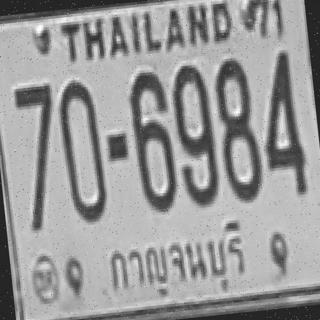N00: (55, 78, 107, 222)
N04: (254, 48, 306, 196)
N06: (127, 68, 177, 211)
N07: (12, 82, 62, 205), (11, 81, 59, 185), (11, 82, 58, 176)
N08: (210, 55, 263, 201)
N09: (169, 62, 219, 205)
P17: (99, 220, 253, 303)
